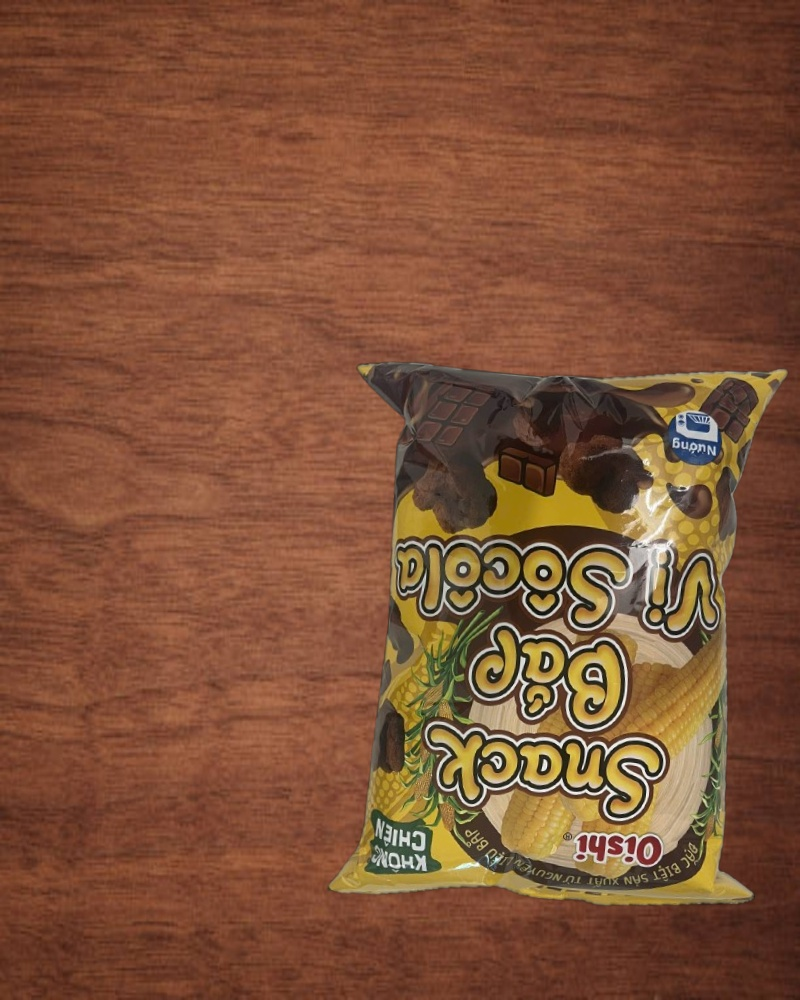Snack socola: (313, 336, 800, 928)
